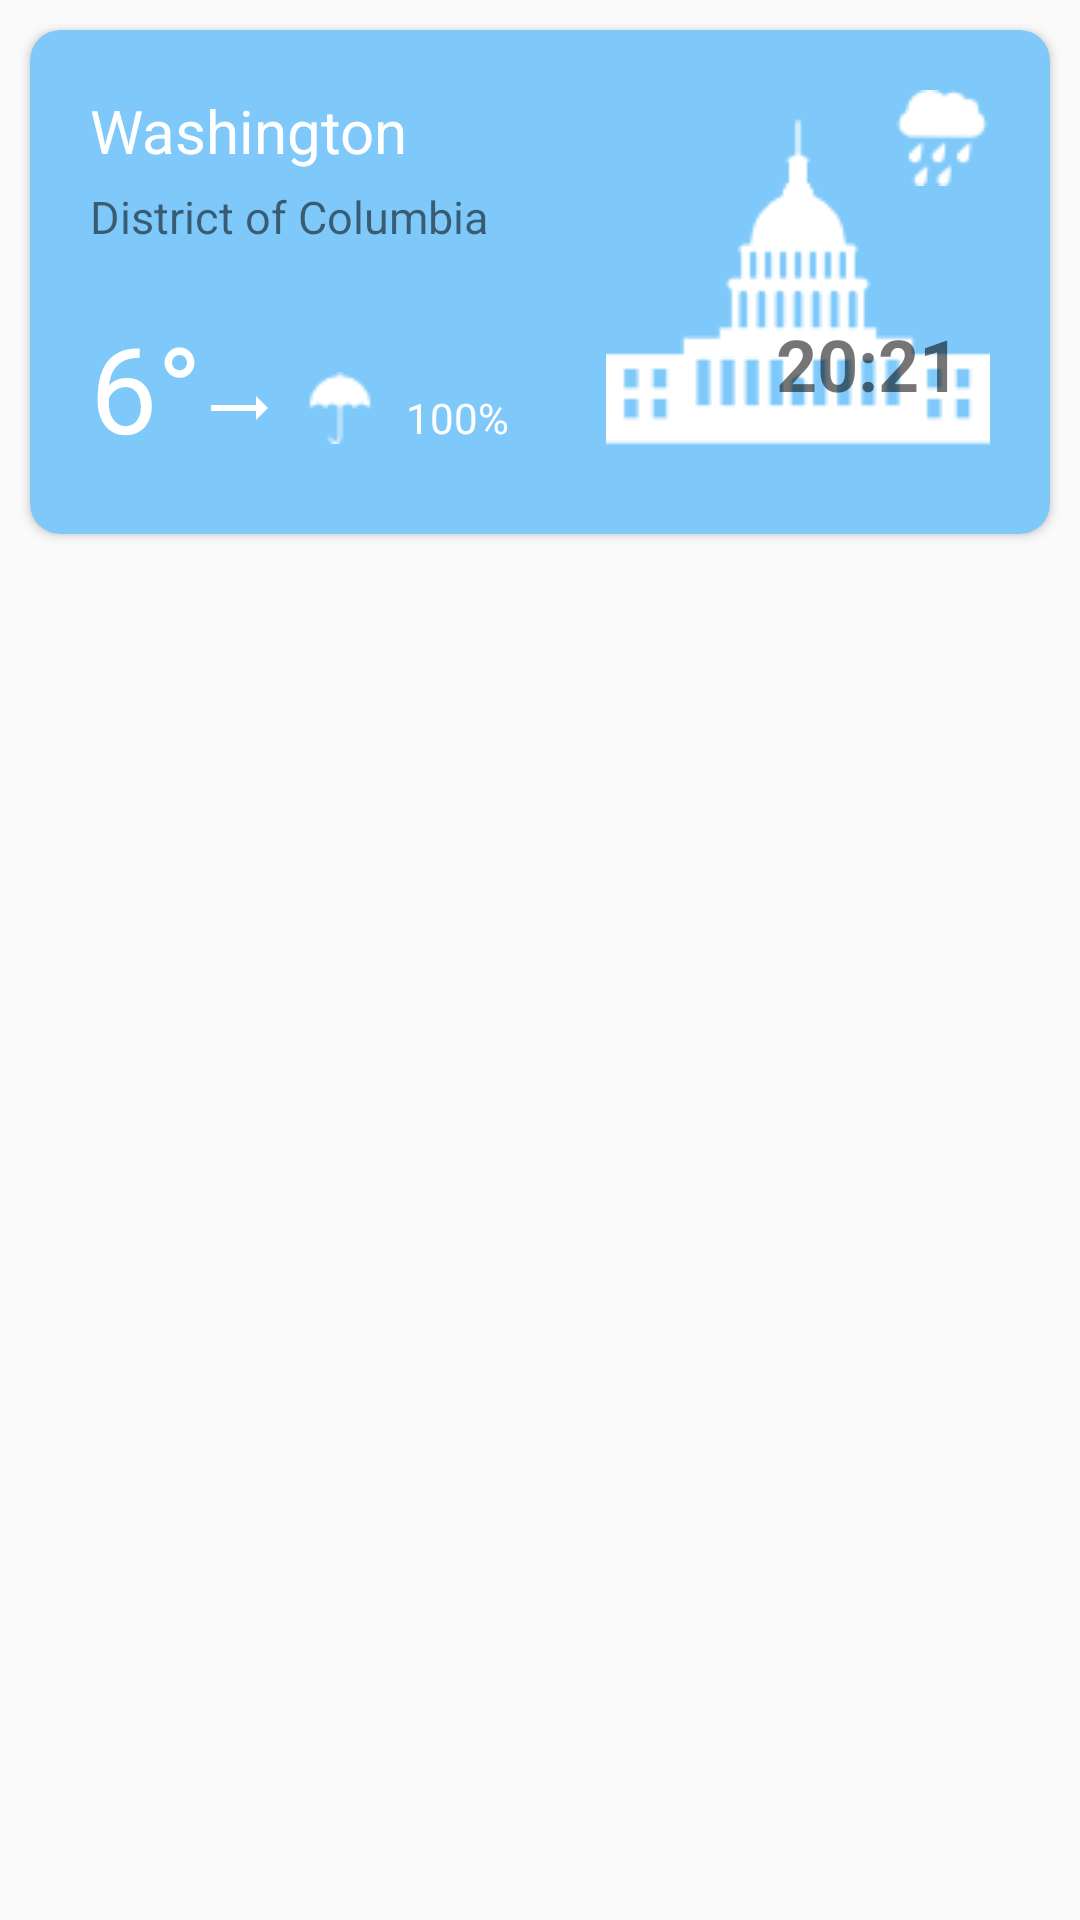

Named icons in this screenshot (1080px×1920px) and their centers, (x=x, y=y):
umbrella: (x=340, y=408)
